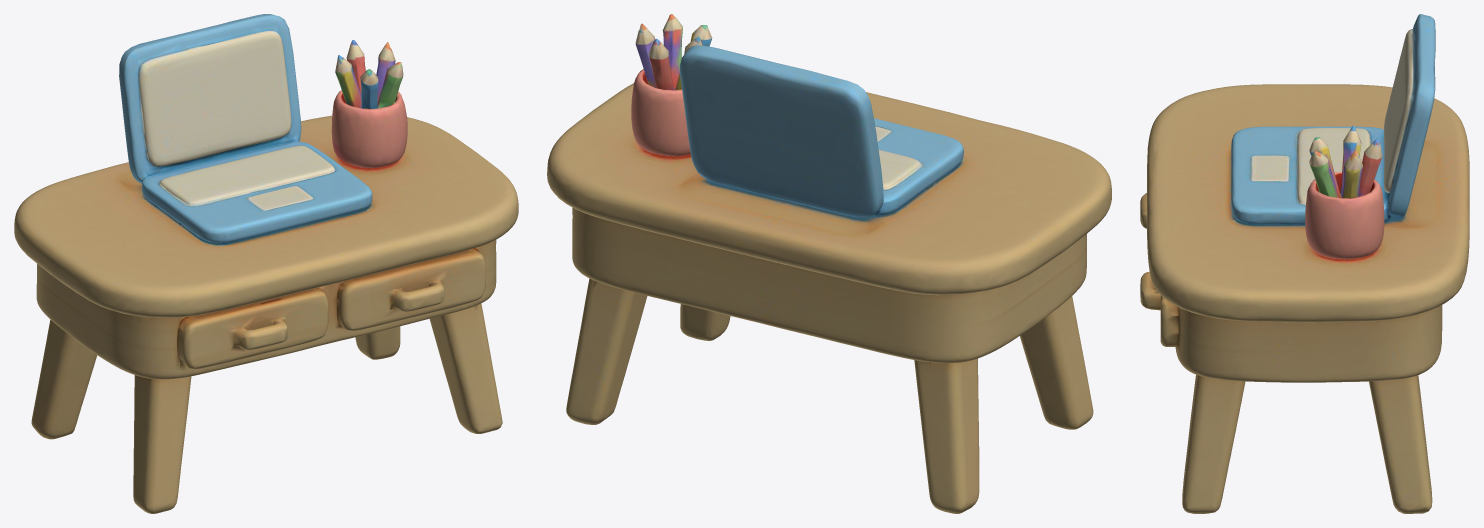
File: furniture_desk.glb
3 renders of one model, left to right at view 1: azimuth 30°, elevation 25°; view 2: azimuth 150°, elevation 25°; view 3: azimuth 270°, elevation 25°, orthographic. The views are drawn at different scales.
Visible parts, largest first — view 1: tripo_node_6b528988-0962-46d1-975e-d40cbd55e3fd; view 2: tripo_node_6b528988-0962-46d1-975e-d40cbd55e3fd; view 3: tripo_node_6b528988-0962-46d1-975e-d40cbd55e3fd.
Part boxes in pixels (bbox=[...]): tripo_node_6b528988-0962-46d1-975e-d40cbd55e3fd: bbox=[14, 14, 518, 513]; tripo_node_6b528988-0962-46d1-975e-d40cbd55e3fd: bbox=[547, 14, 1111, 513]; tripo_node_6b528988-0962-46d1-975e-d40cbd55e3fd: bbox=[1140, 14, 1469, 513].
Size of the model in its own units: 0.98 by 0.7961 by 0.6332.
1 material, 1 textured.
